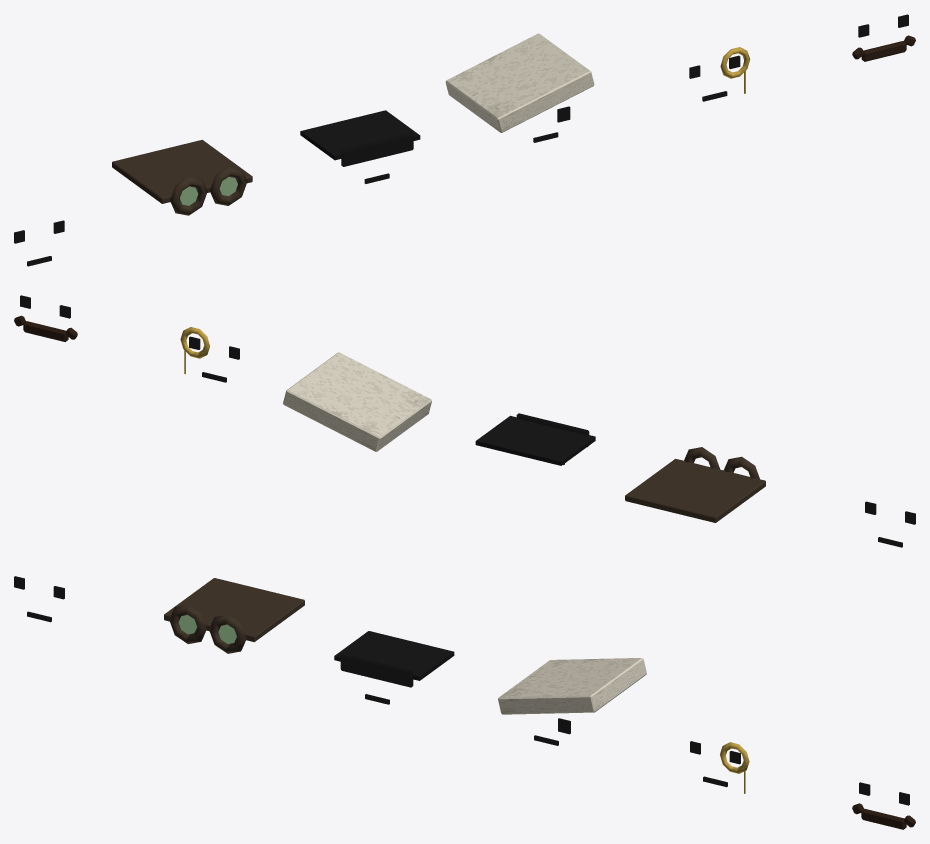
3 views of the same model, one above another, from view 1: azimuth 30°, elevation 25°; view 2: azimuth 150°, elevation 25°; view 3: azimuth 330°, elevation 25° (orthographic).
Parts seen in each view (by area): view 1: wrap, strap, arms, glasses, frame0, frame1, stache; view 2: wrap, strap, arms, stache; view 3: wrap, strap, arms, glasses, frame0, frame1, stache.
Boxes of the visible parts, x1=… form: wrap: x1=445, y1=33, x2=594, y2=132; strap: x1=112, y1=139, x2=252, y2=203; arms: x1=300, y1=110, x2=420, y2=160; glasses: x1=341, y1=133, x2=413, y2=166; frame0: x1=170, y1=176, x2=207, y2=215; frame1: x1=210, y1=166, x2=247, y2=205; stache: x1=861, y1=41, x2=906, y2=61; wrap: x1=283, y1=352, x2=431, y2=451; strap: x1=625, y1=458, x2=765, y2=522; arms: x1=475, y1=415, x2=595, y2=465; stache: x1=23, y1=321, x2=68, y2=341; wrap: x1=498, y1=658, x2=646, y2=714; strap: x1=164, y1=578, x2=304, y2=642; arms: x1=334, y1=631, x2=454, y2=680; glasses: x1=340, y1=653, x2=413, y2=687; frame0: x1=169, y1=605, x2=206, y2=644; frame1: x1=209, y1=614, x2=246, y2=653; stache: x1=861, y1=808, x2=906, y2=829.
Size of the model in its own units: 4.53 by 0.2879 by 0.485.
Materials: 7 (1 with a texture image).
